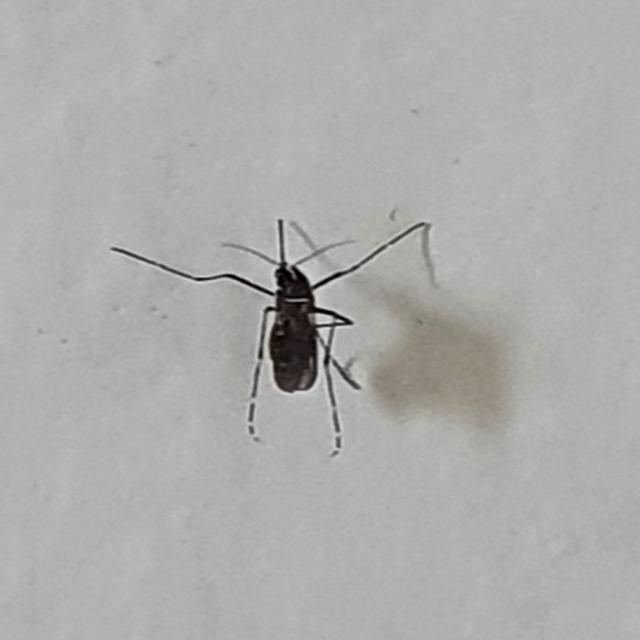albopictus: (110, 204, 440, 453)
